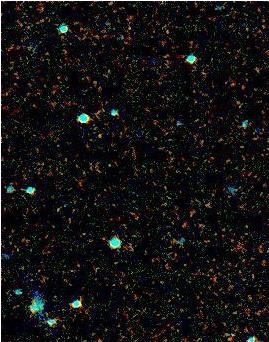star: (84, 119, 114, 149)
